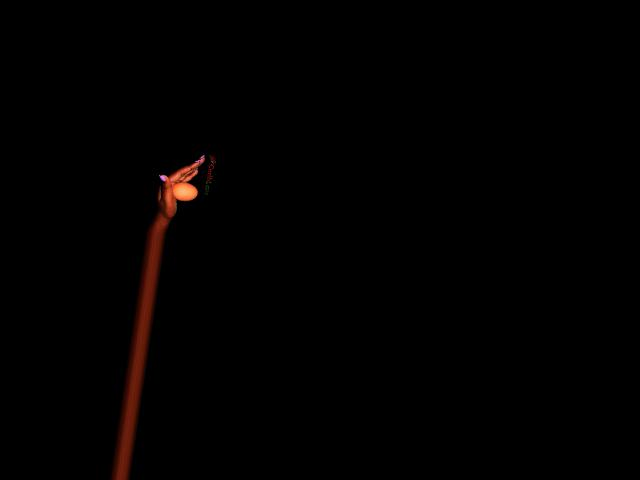egg: (170, 180, 199, 203)
